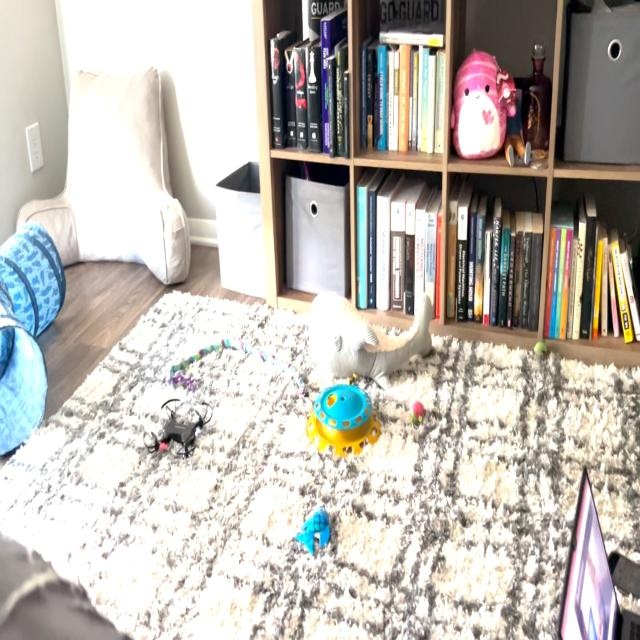drone: (139, 381, 223, 470)
